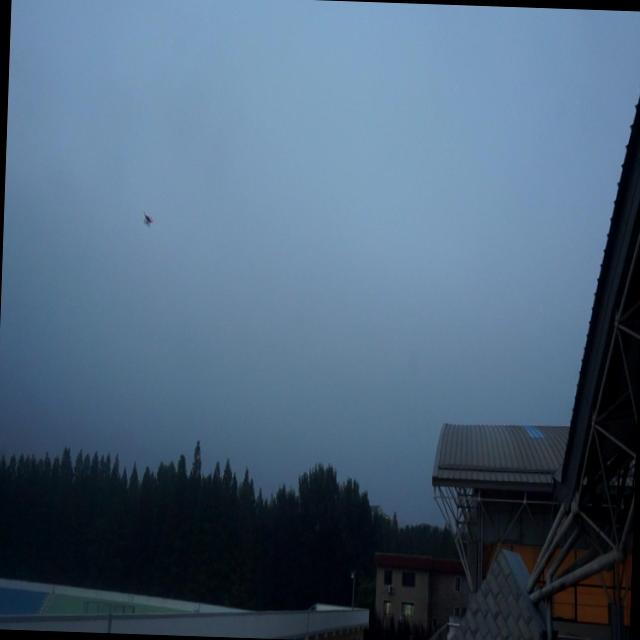drone: (140, 209, 154, 230)
